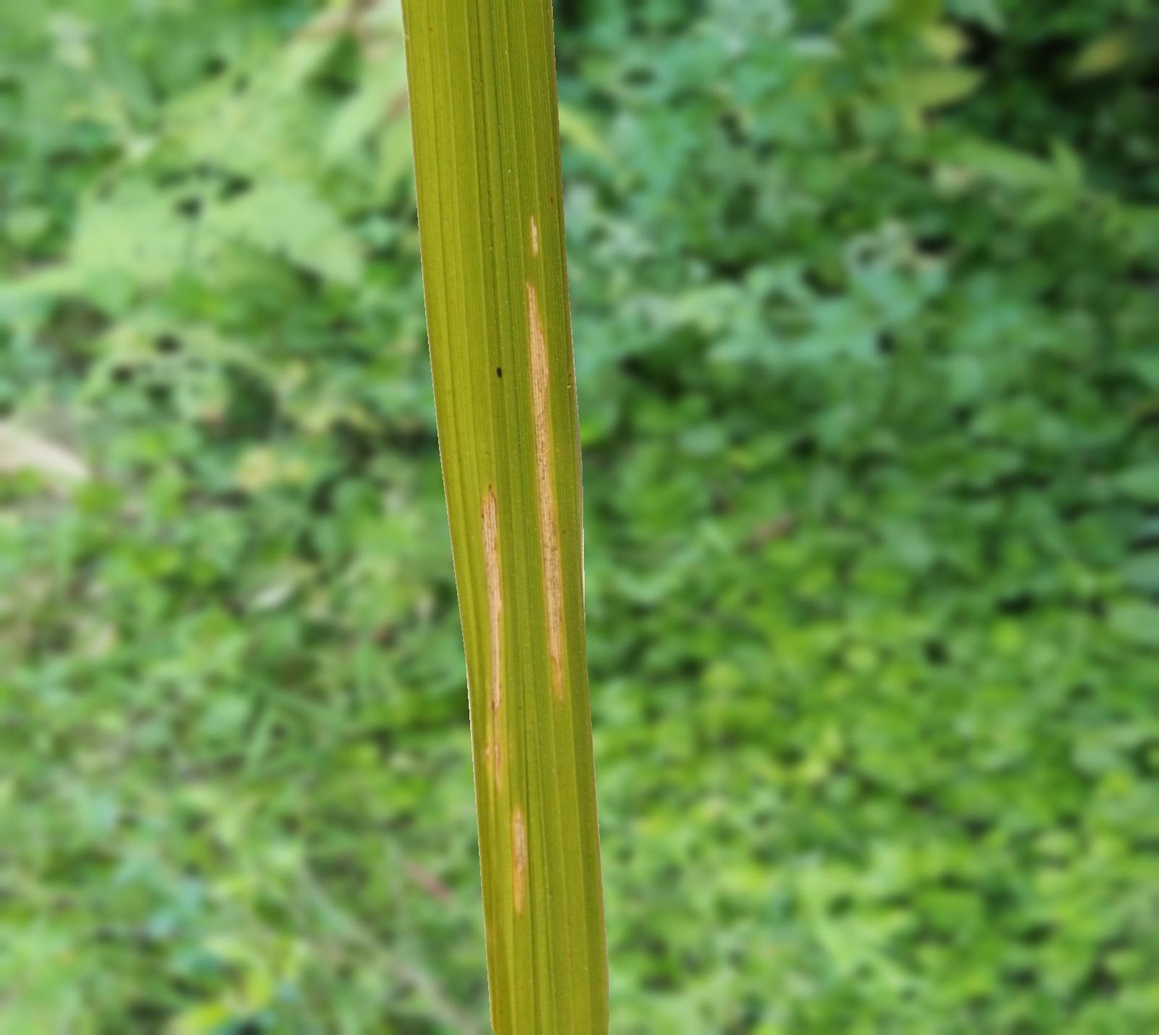BLS: (527, 281, 564, 700), (482, 486, 505, 787), (511, 807, 527, 915)
LEAF: (401, 0, 609, 1034)
